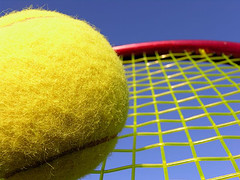tennis ball: (1, 7, 131, 179)
